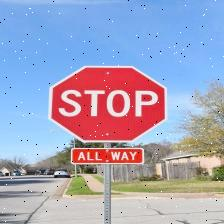Stop: (47, 63, 168, 143)
